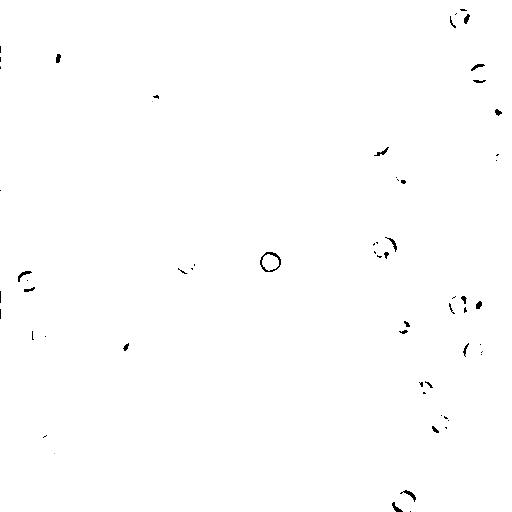micro-algae: (294, 258, 370, 331), (108, 334, 154, 378), (39, 35, 77, 79), (90, 297, 122, 337), (383, 164, 419, 196), (228, 116, 258, 150), (41, 276, 71, 309), (468, 287, 494, 318), (480, 137, 508, 165), (120, 335, 148, 363), (91, 407, 120, 434), (389, 133, 414, 163), (174, 251, 202, 277), (370, 235, 398, 261), (446, 293, 474, 319), (2, 39, 26, 69), (390, 489, 419, 512), (37, 433, 65, 456), (0, 295, 24, 321), (448, 6, 472, 31), (259, 251, 283, 276), (15, 271, 40, 294), (462, 340, 485, 365), (30, 321, 49, 351), (470, 63, 493, 85), (368, 138, 392, 159), (387, 319, 412, 336), (429, 414, 450, 434), (416, 378, 438, 397), (149, 270, 169, 289), (493, 100, 508, 119), (156, 1, 178, 7)
